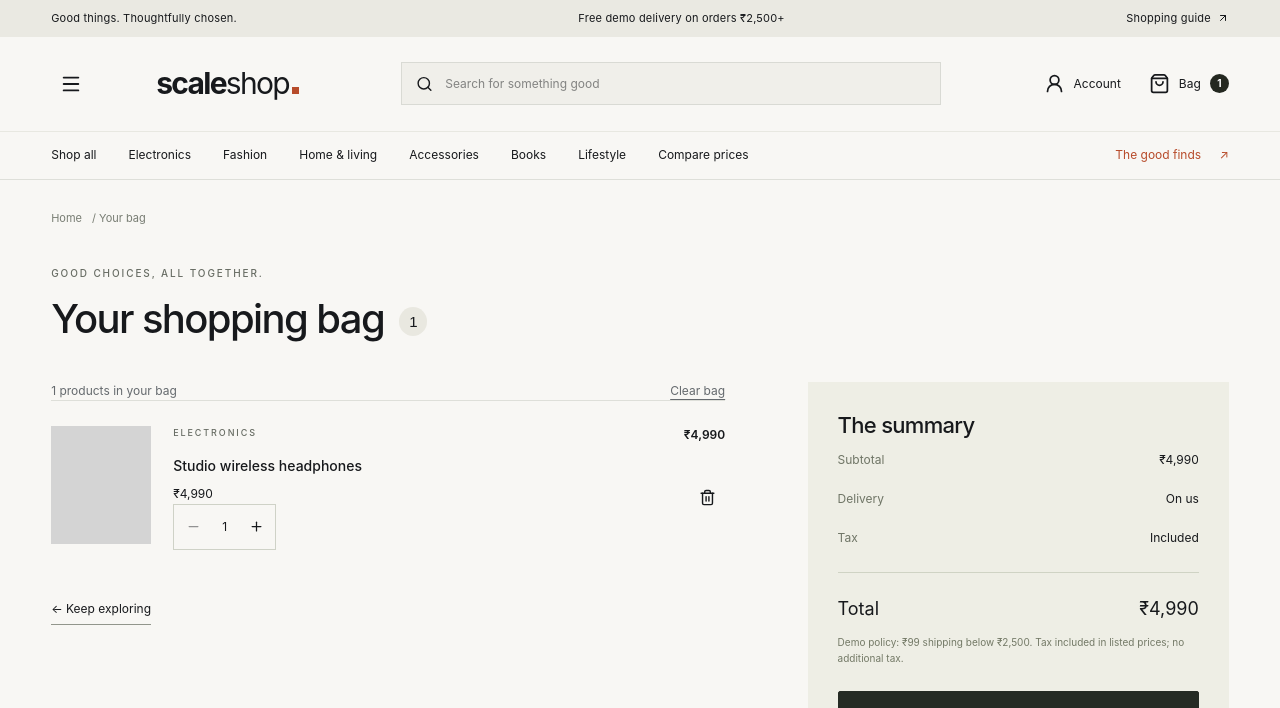
Test case: clear bag confirms, empties the shared cart and updates the header
Click the button "Clear bag". click: x=698, y=391
box: [670,382,725,400]
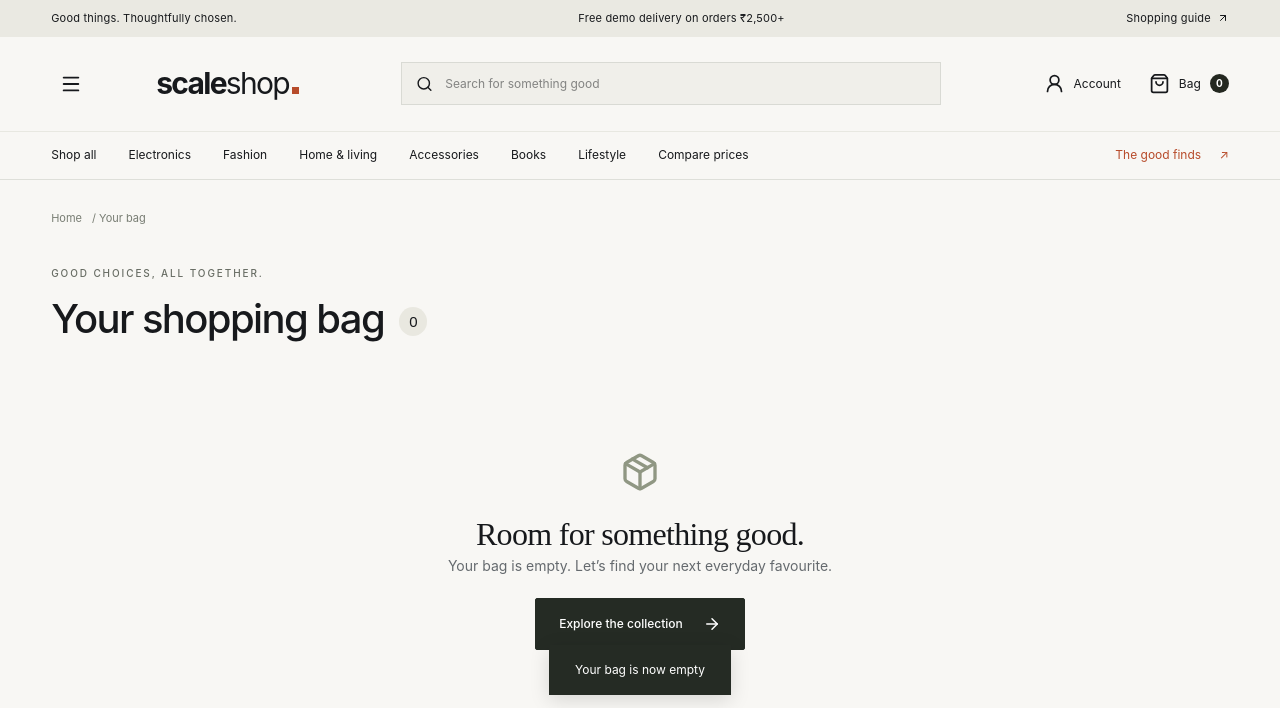
Now the heading "Room for something good." is shown, box [476,516,804,552]
Now the link named "Shopping bag, 0 items" is shown, box [1149,73,1229,94]
